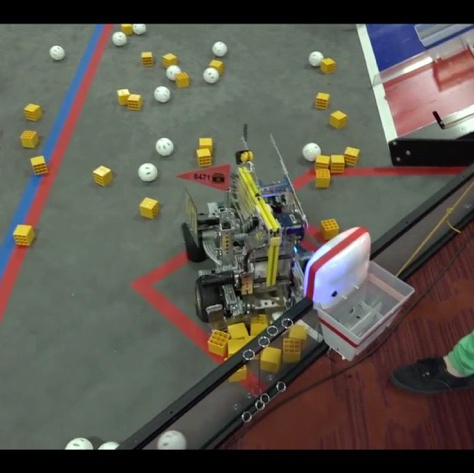robot: (180, 128, 316, 318)
